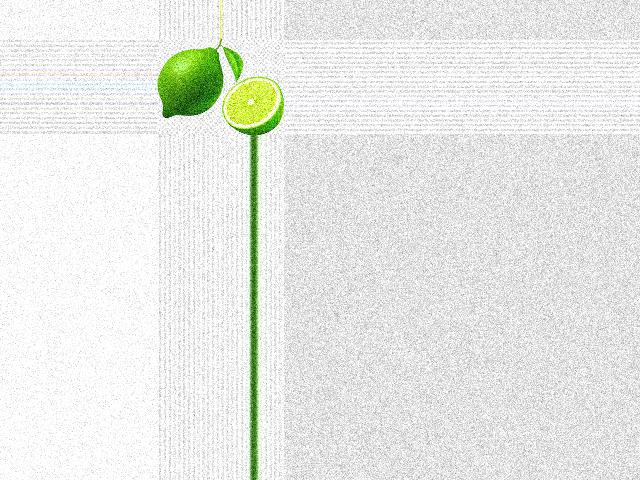lemon: (158, 46, 233, 120)
